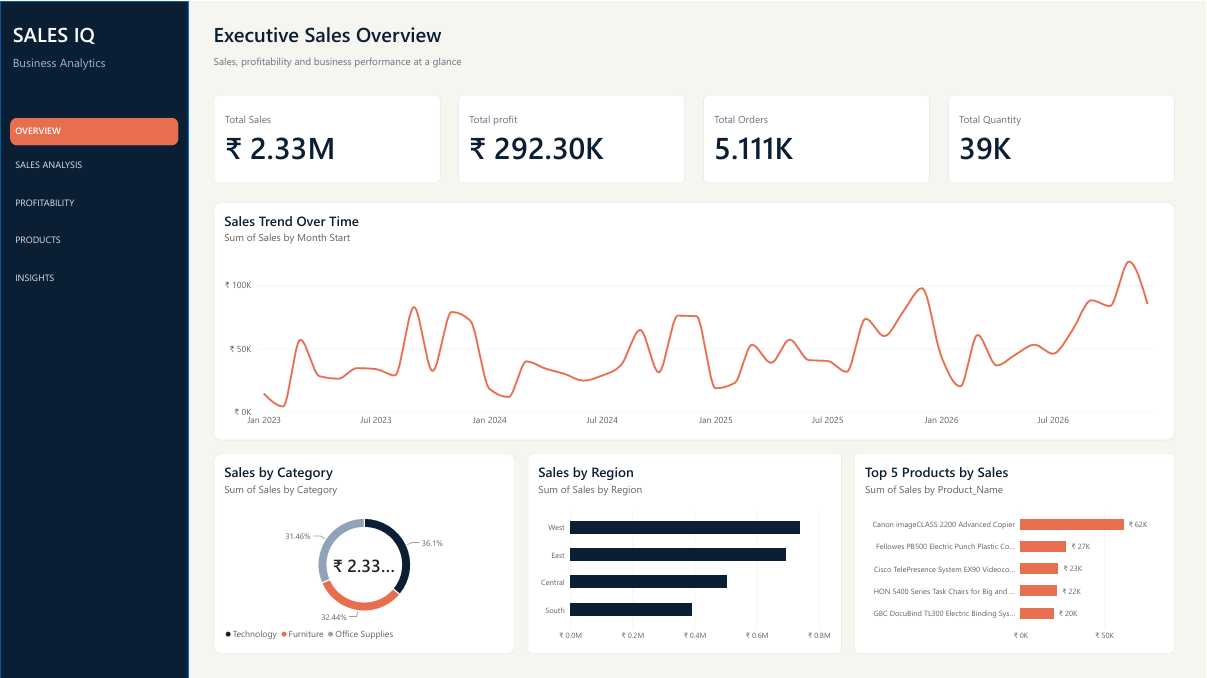

This screenshot's page, from the dashboard's own definition file:
{"tool":"powerbi","page":{"name":"Overview","canvas":[1920,1080],"ordinal":0},"visuals":[{"type":"shape","box":[0,0,300,1080],"z":0},{"type":"shape","box":[16.3,186,268,44],"z":1000},{"type":"cardVisual","fields":{"Data":["Sum(sales_analytics orders.Sales)"]},"box":[340.9,150,360,140],"z":2000},{"type":"cardVisual","fields":{"Data":["Sum(sales_analytics orders.Profit)"]},"box":[730,150,360,140],"z":3000},{"type":"cardVisual","fields":{"Data":["Sum(sales_analytics orders.Quantity)"]},"box":[1510,150,360,140],"z":4000},{"type":"cardVisual","fields":{"Data":["Count(sales_analytics orders.Order_ID)"]},"box":[1120,150,360,140],"z":5000},{"type":"lineChart","title":"Sales Trend Over Time","fields":{"Category":["sales_analytics orders.Month Start"],"Y":["Sum(sales_analytics orders.Sales)"]},"box":[340,320,1530,380],"z":6000},{"type":"donutChart","title":"Sales by Category","fields":{"Category":["sales_analytics orders.Category"],"Y":["Sum(sales_analytics orders.Sales)"]},"box":[340,720,480,320],"z":7000},{"type":"clusteredBarChart","title":"Sales by Region","fields":{"Category":["sales_analytics orders.Region"],"Y":["Sum(sales_analytics orders.Sales)"]},"box":[840,720,500,320],"z":8000},{"type":"clusteredBarChart","title":"Top 5 Products by Sales","fields":{"Category":["sales_analytics orders.Product_Name"],"Y":["Sum(sales_analytics orders.Sales)"]},"box":[1360,720,510,320],"z":9000},{"type":"textbox","box":[20,85,240,40],"z":10000},{"type":"textbox","box":[20,30,260,60],"z":11000},{"type":"textbox","box":[24,250,240,40],"z":12000},{"type":"textbox","box":[24,310,240,40],"z":13000},{"type":"textbox","box":[24,196,218.6,48.8],"z":14000},{"type":"textbox","box":[24,370,240,40],"z":15000},{"type":"textbox","box":[24,430,240,40],"z":16000},{"type":"textbox","box":[340,30,700,60],"z":17000},{"type":"textbox","box":[340,85,700,36],"z":18000},{"type":"actionButton","box":[16,186,268,44],"z":19000},{"type":"actionButton","box":[16,246,268,44],"z":20000},{"type":"actionButton","box":[16,306,260,44],"z":21000},{"type":"actionButton","box":[16,366,268,44],"z":22000},{"type":"actionButton","box":[16,426,268,44],"z":23000}]}

Visuals, with their boxes on the page's 1920x1080 design canvas (x1, y1, x2, y2). These are canvas units, not pixel positions in the 1207x678 screenshot, which may show the page scaled, cropped or inside an application window:
shape: 0, 0, 300, 1080
shape: 16, 186, 284, 230
cardVisual - Sum(sales_analytics orders.Sales): 341, 150, 701, 290
cardVisual - Sum(sales_analytics orders.Profit): 730, 150, 1090, 290
cardVisual - Sum(sales_analytics orders.Quantity): 1510, 150, 1870, 290
cardVisual - Count(sales_analytics orders.Order_ID): 1120, 150, 1480, 290
"Sales Trend Over Time" lineChart: 340, 320, 1870, 700
"Sales by Category" donutChart: 340, 720, 820, 1040
"Sales by Region" clusteredBarChart: 840, 720, 1340, 1040
"Top 5 Products by Sales" clusteredBarChart: 1360, 720, 1870, 1040
textbox: 20, 85, 260, 125
textbox: 20, 30, 280, 90
textbox: 24, 250, 264, 290
textbox: 24, 310, 264, 350
textbox: 24, 196, 243, 245
textbox: 24, 370, 264, 410
textbox: 24, 430, 264, 470
textbox: 340, 30, 1040, 90
textbox: 340, 85, 1040, 121
actionButton: 16, 186, 284, 230
actionButton: 16, 246, 284, 290
actionButton: 16, 306, 276, 350
actionButton: 16, 366, 284, 410
actionButton: 16, 426, 284, 470
